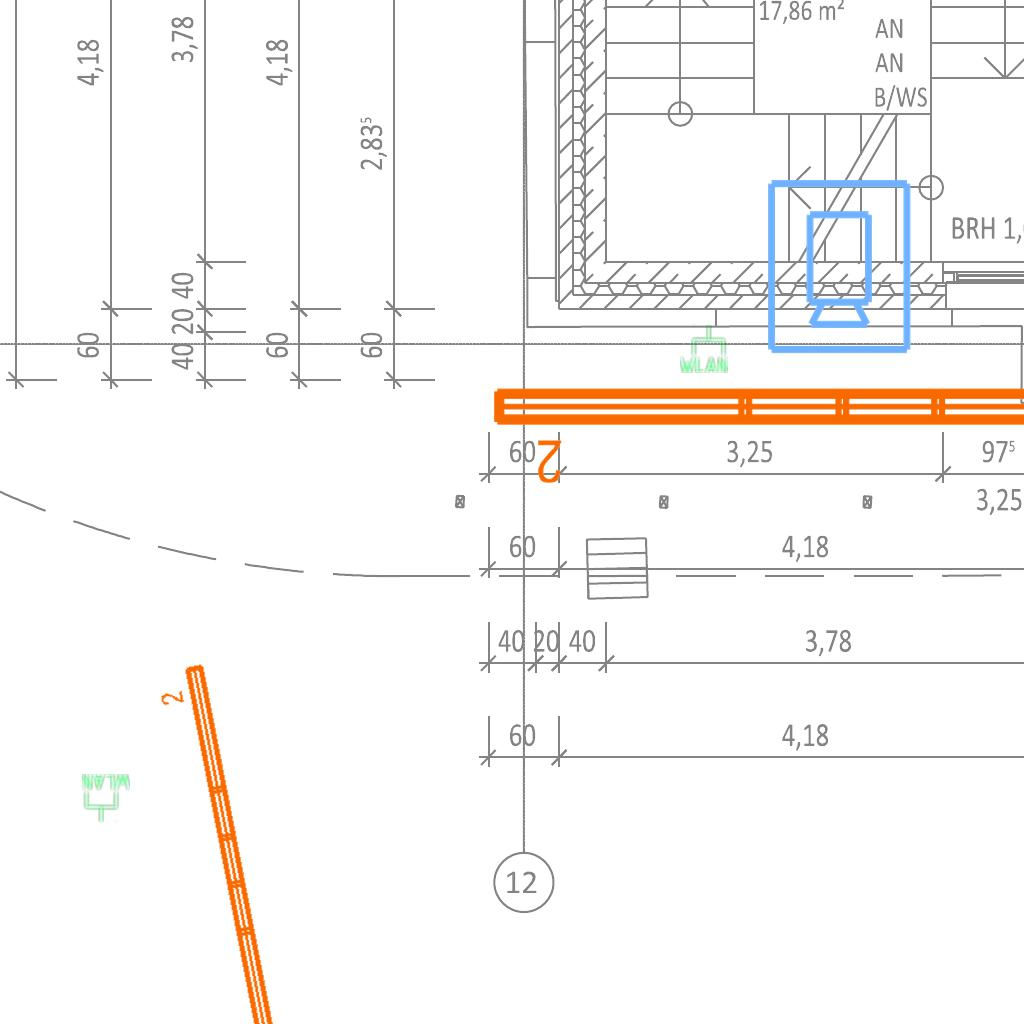Ambulanz_Pendelleuchte_LED: (485, 376, 1024, 488), (153, 658, 282, 1024)
KFO_Kamera_mit_Festobjektiv: (761, 175, 915, 357)
WLAN: (678, 323, 730, 375), (80, 772, 132, 824)
